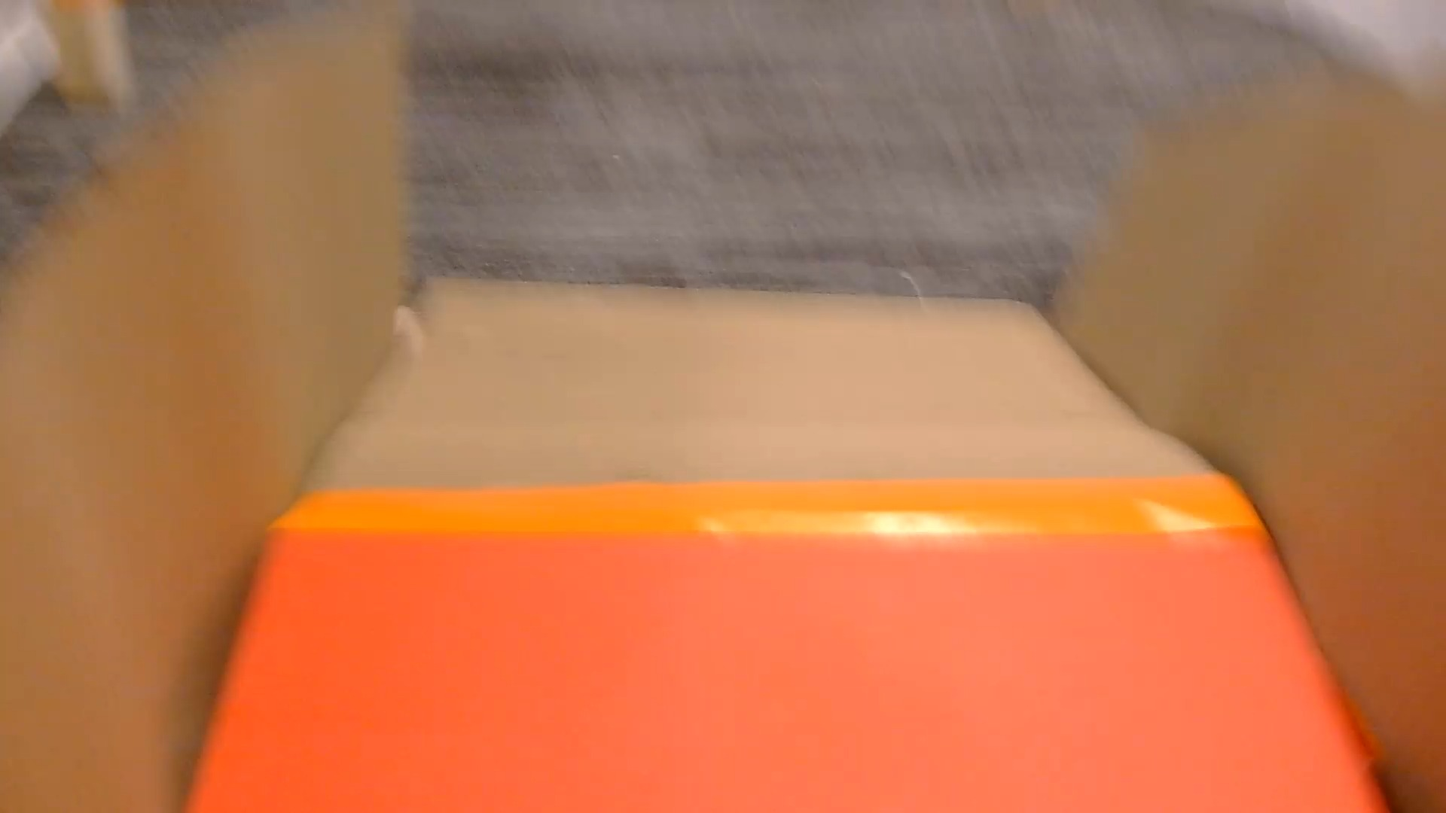Ramp: (0, 4, 1445, 812)
Wooden Block: (48, 0, 133, 106)
